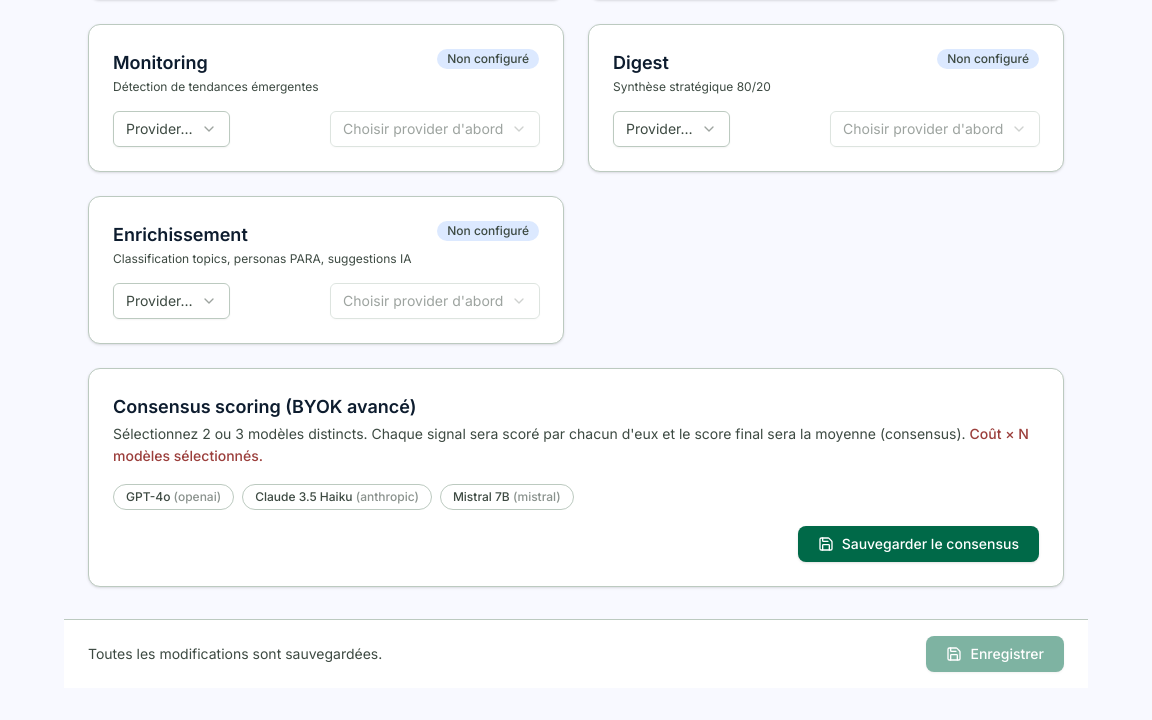
Test case: Settings — consensus scoring › sélectionner 2 modèles active le bouton sauvegarder
(page scrolled)
Click the button "GPT-4o (openai)" at x=174, y=497, box [113,484,234,510]
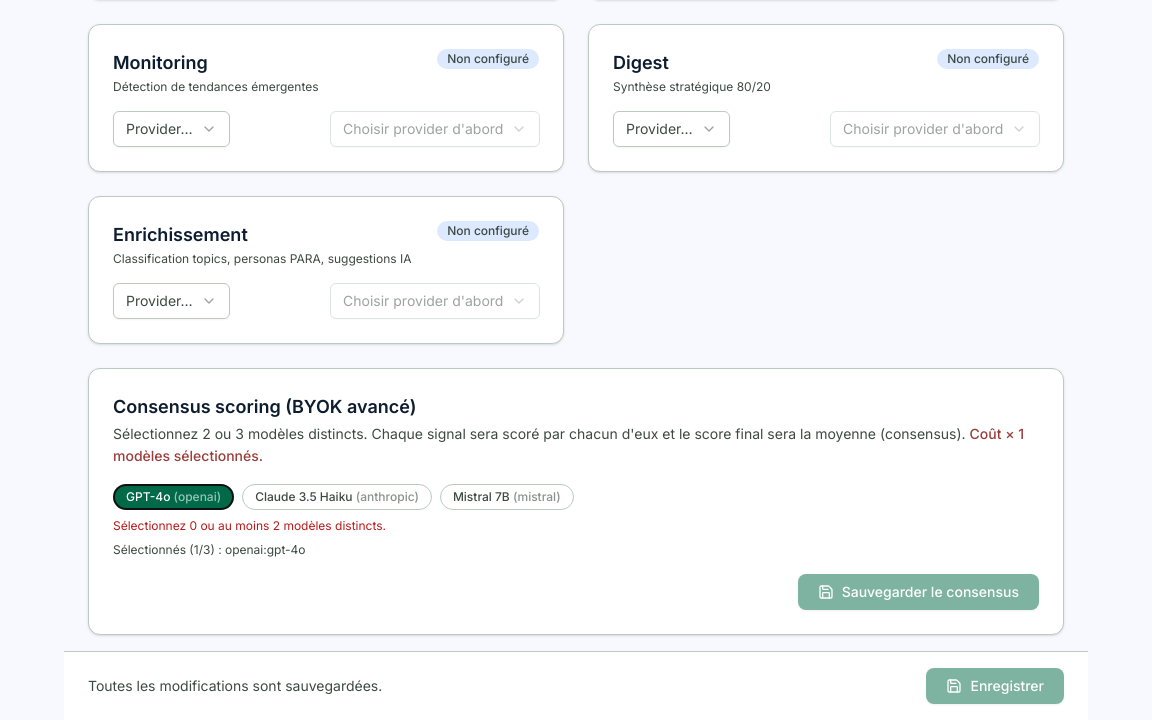
Click the button "Claude 3.5 Haiku (anthropic)" at x=337, y=497, box [242,484,432,510]
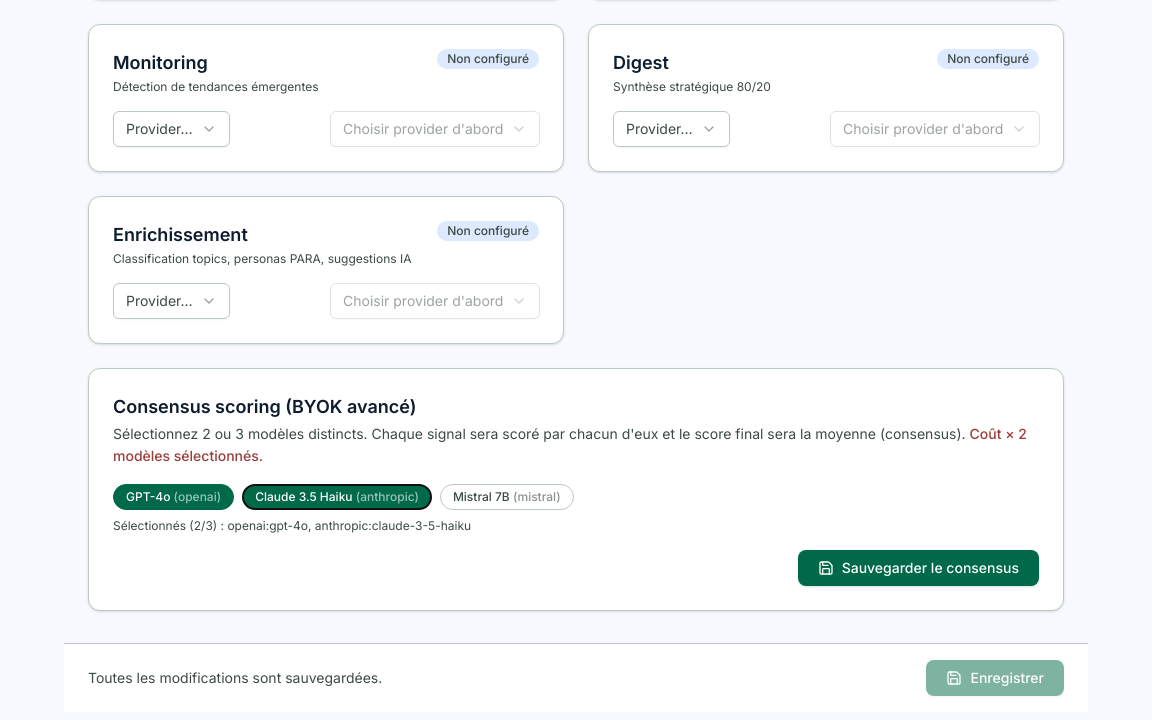
expect the button "Sauvegarder le consensus" is enabled: met, box [798,550,1039,586]
